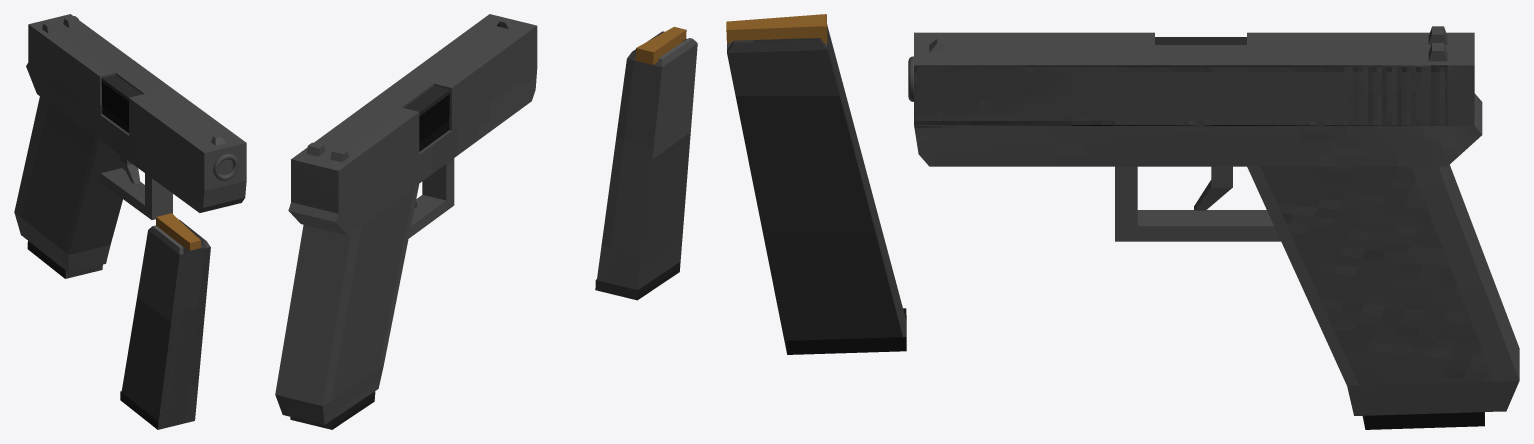
Rendered from glock.glb.
The picture shows the model from 3 angles, left to right: view 1: azimuth 30°, elevation 25°; view 2: azimuth 150°, elevation 25°; view 3: azimuth 270°, elevation 25°; orthographic projection. The views are drawn at different scales.
Parts seen in each view (by area): view 1: gun, Torus, clip.001, bullet.001, clip; view 2: gun, Torus, clip.001, bullet.001, clip; view 3: gun, Torus, clip.001, bullet.001, clip.
Part boxes in pixels (x1=…): gun: x1=14, y1=62, x2=246, y2=272; Torus: x1=28, y1=14, x2=246, y2=190; clip.001: x1=120, y1=219, x2=210, y2=429; bullet.001: x1=156, y1=213, x2=200, y2=250; clip: x1=27, y1=241, x2=102, y2=278; gun: x1=275, y1=69, x2=537, y2=424; Torus: x1=291, y1=14, x2=537, y2=213; clip.001: x1=595, y1=31, x2=697, y2=300; bullet.001: x1=635, y1=26, x2=686, y2=64; clip: x1=290, y1=391, x2=375, y2=429; gun: x1=914, y1=93, x2=1519, y2=415; Torus: x1=908, y1=26, x2=1474, y2=125; clip.001: x1=727, y1=26, x2=906, y2=354; bullet.001: x1=726, y1=14, x2=827, y2=43; clip: x1=1362, y1=412, x2=1484, y2=429.
Size of the model in its own units: 5.39 by 9.47 by 18.06.
Materials: 4 (3 with a texture image).
